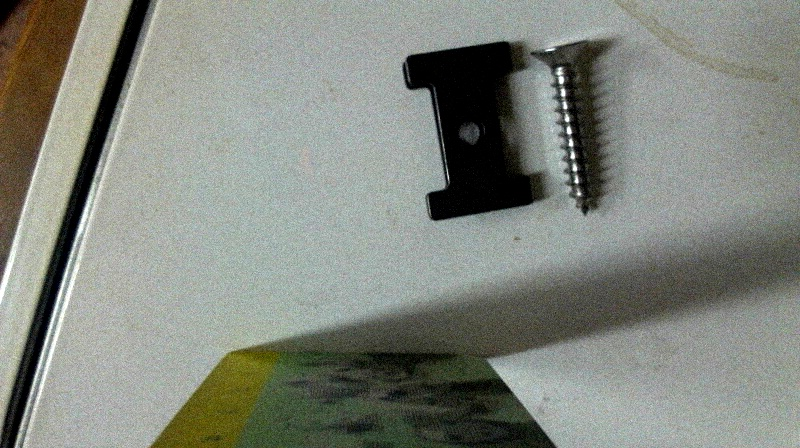O002: (403, 39, 531, 217)
S001: (530, 35, 596, 225)
